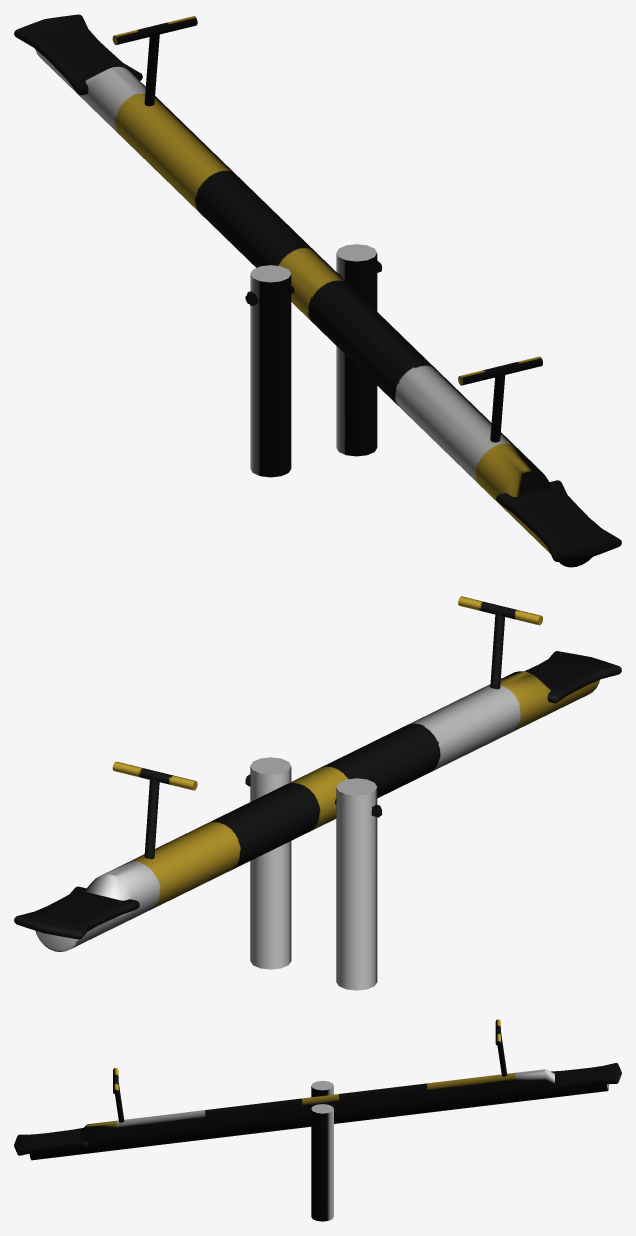
File: wip.fbx
3 renders of one model, top to bottom at view 1: azimuth 30°, elevation 25°; view 2: azimuth 150°, elevation 25°; view 3: azimuth 270°, elevation 25°, orthographic. The views are drawn at different scales.
Parts seen in each view (by area): view 1: SeeSaw; view 2: SeeSaw; view 3: SeeSaw.
Part boxes in pixels (x1,y1,x2,y2): SeeSaw: (14, 14, 621, 567); SeeSaw: (14, 596, 621, 990); SeeSaw: (14, 1019, 621, 1221).
Size of the model in its own units: 58.07 by 132 by 414.
Materials: 1 (1 with a texture image).
